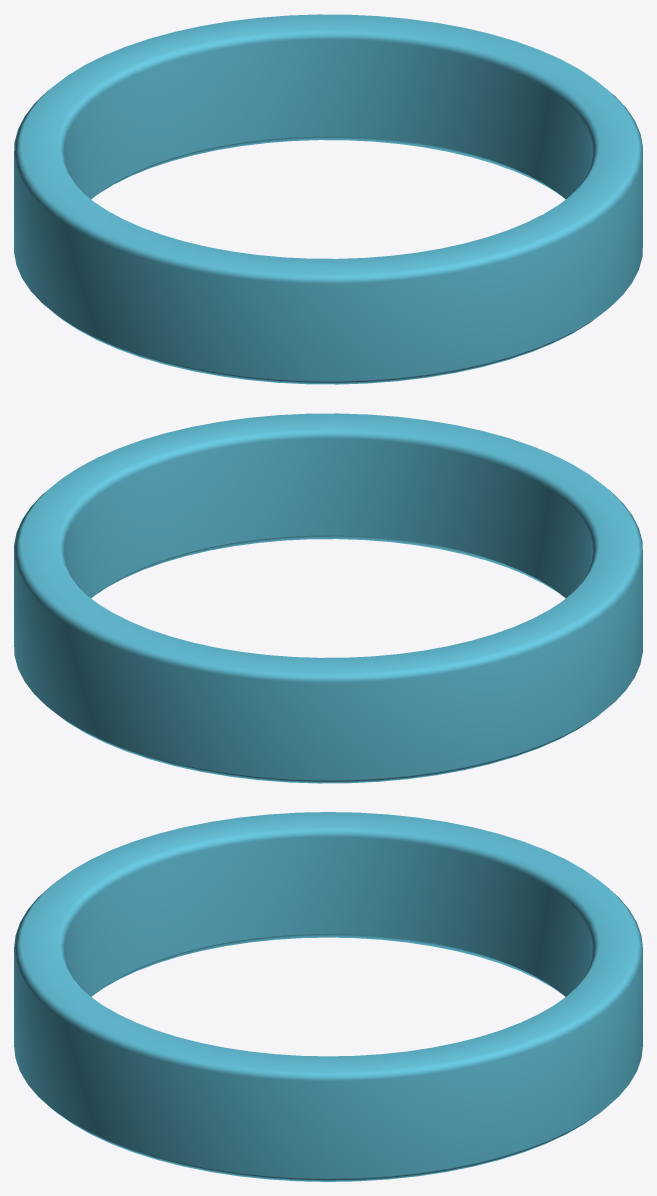
3 renders of one model, top to bottom at view 1: azimuth 30°, elevation 25°; view 2: azimuth 150°, elevation 25°; view 3: azimuth 270°, elevation 25°, orthographic.
Visible parts, largest first — view 1: seal_body; view 2: seal_body; view 3: seal_body.
Part boxes in pixels (x1,y1,x2,y2): seal_body: [14, 14, 642, 384]; seal_body: [14, 413, 642, 783]; seal_body: [14, 812, 642, 1181].
Size of the model in its own units: 0.062 by 0.012 by 0.062.
